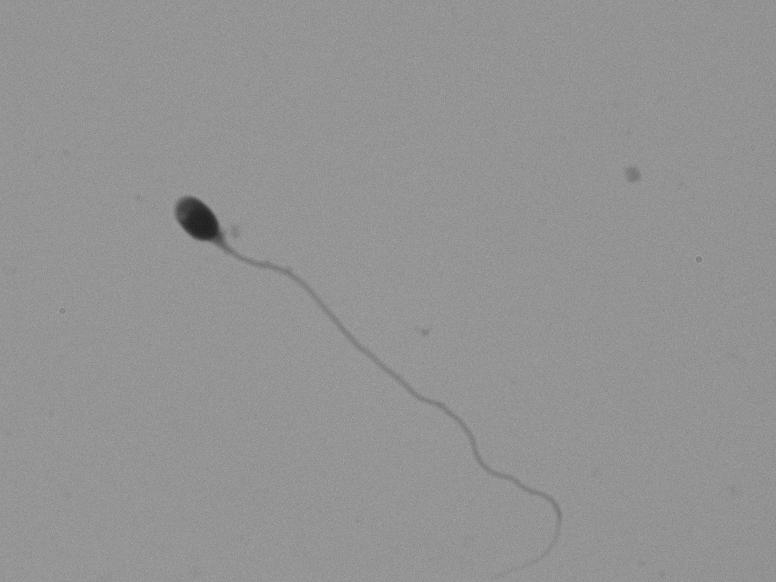Normal: (86, 141, 599, 556)
